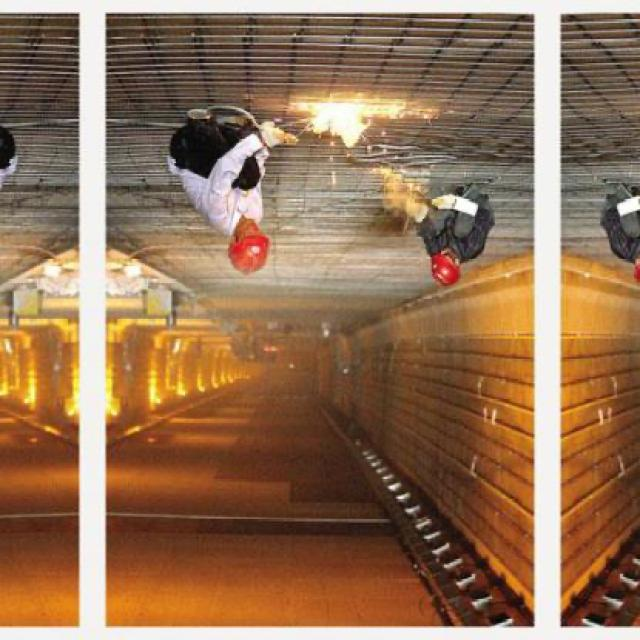con casco: (396, 234, 493, 301), (209, 216, 289, 285)
